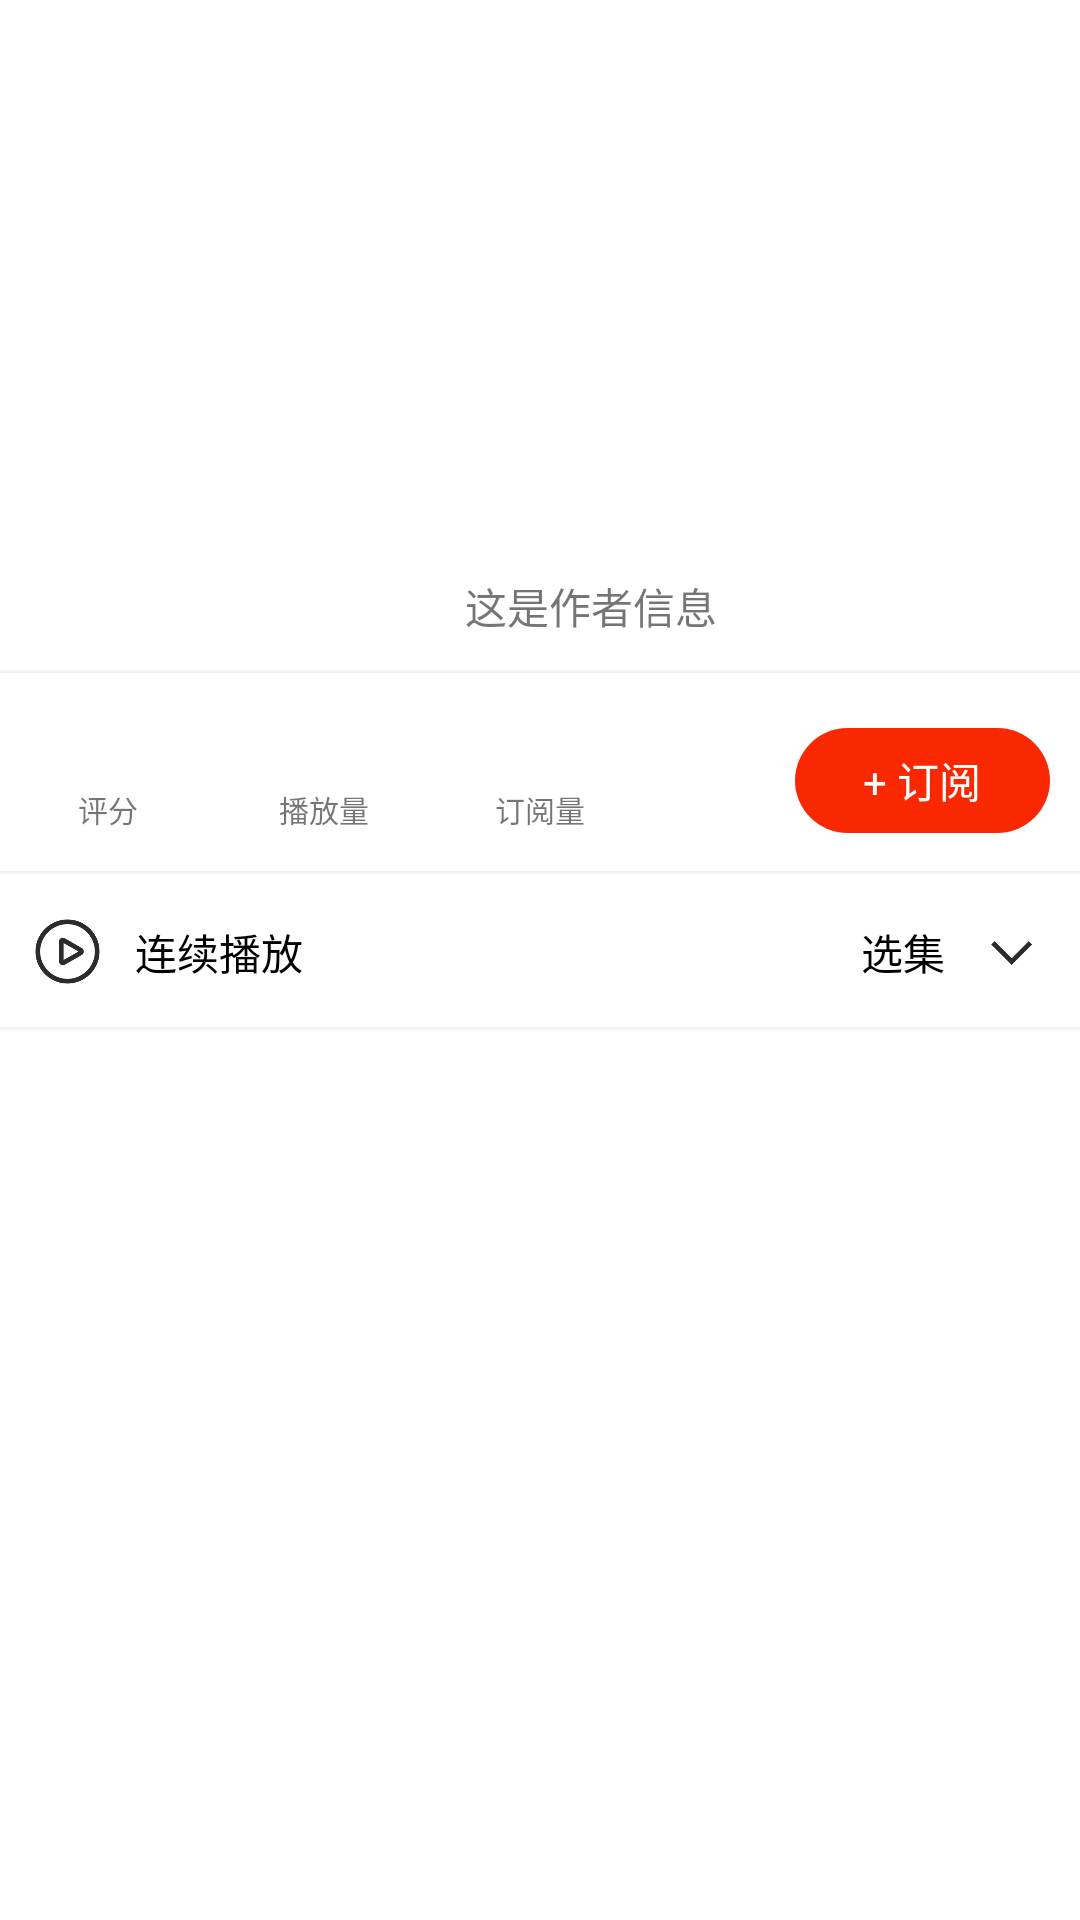

Icon click points for this 1080px x 1920px phone screenshot, format point (x, y):
arrow down: point (1011, 953)
play: point (67, 951)
